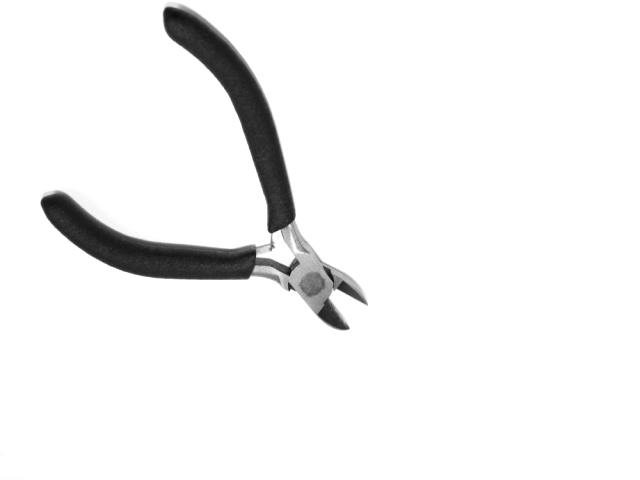Cutting pliers: (41, 8, 368, 330)
